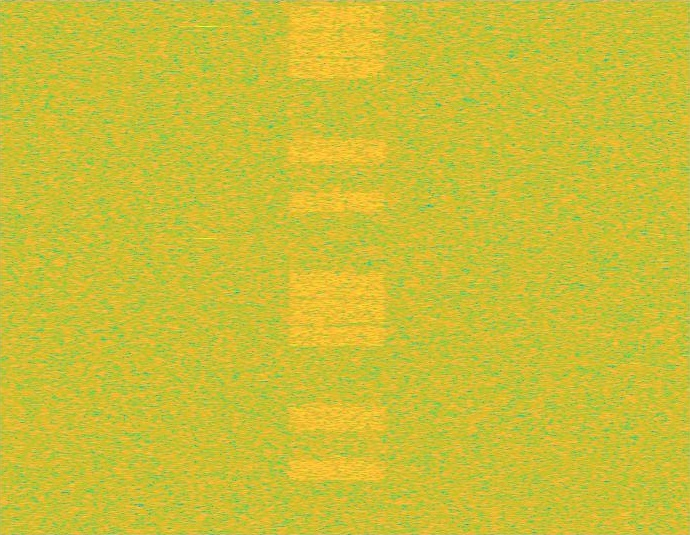LTE: (285, 0, 389, 534)
Radar: (200, 0, 214, 534)
